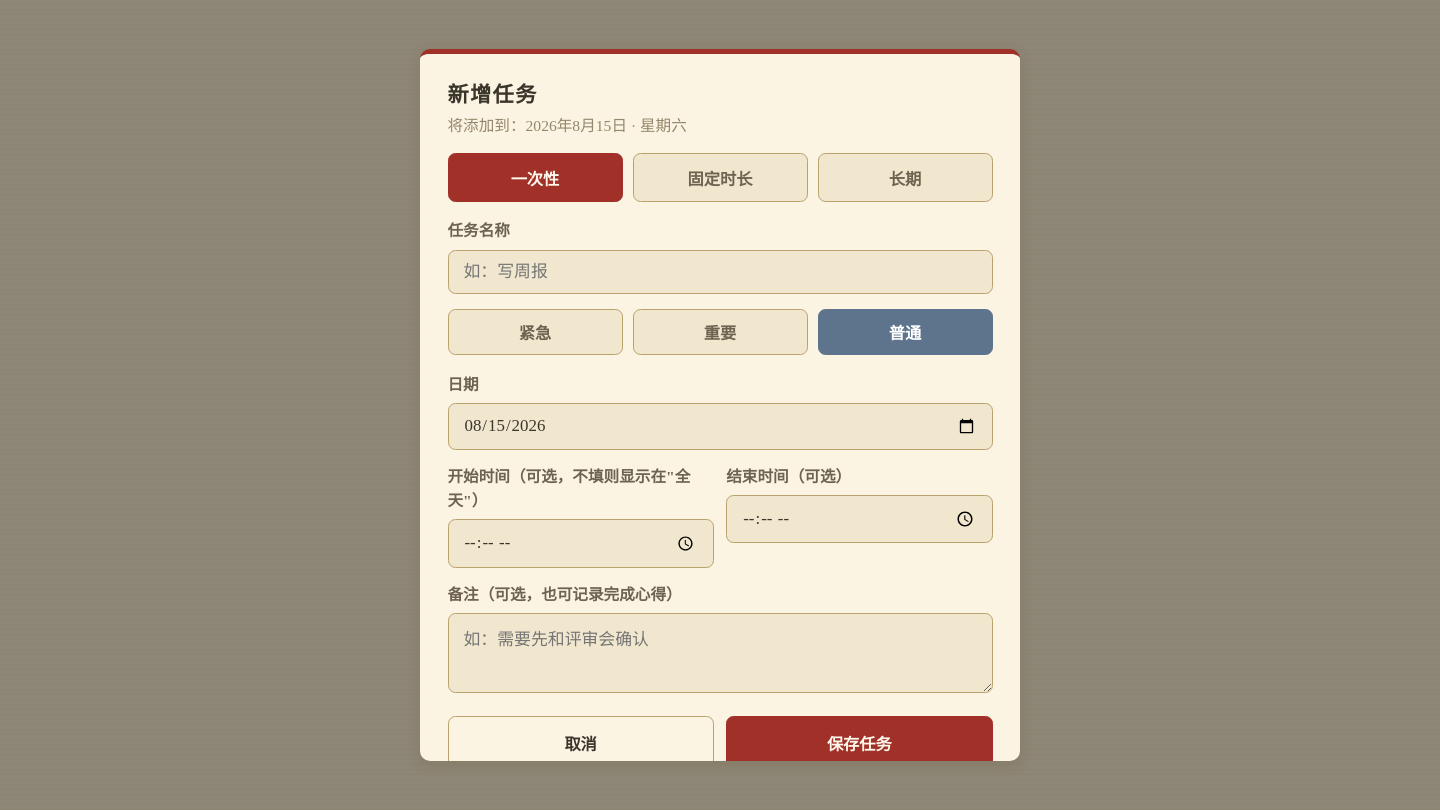
Test: TaskFormModal 新增/编辑/校验 › 标题为空时校验报错
Click the button "保存任务" at [859, 743], box [726,716,993,770]
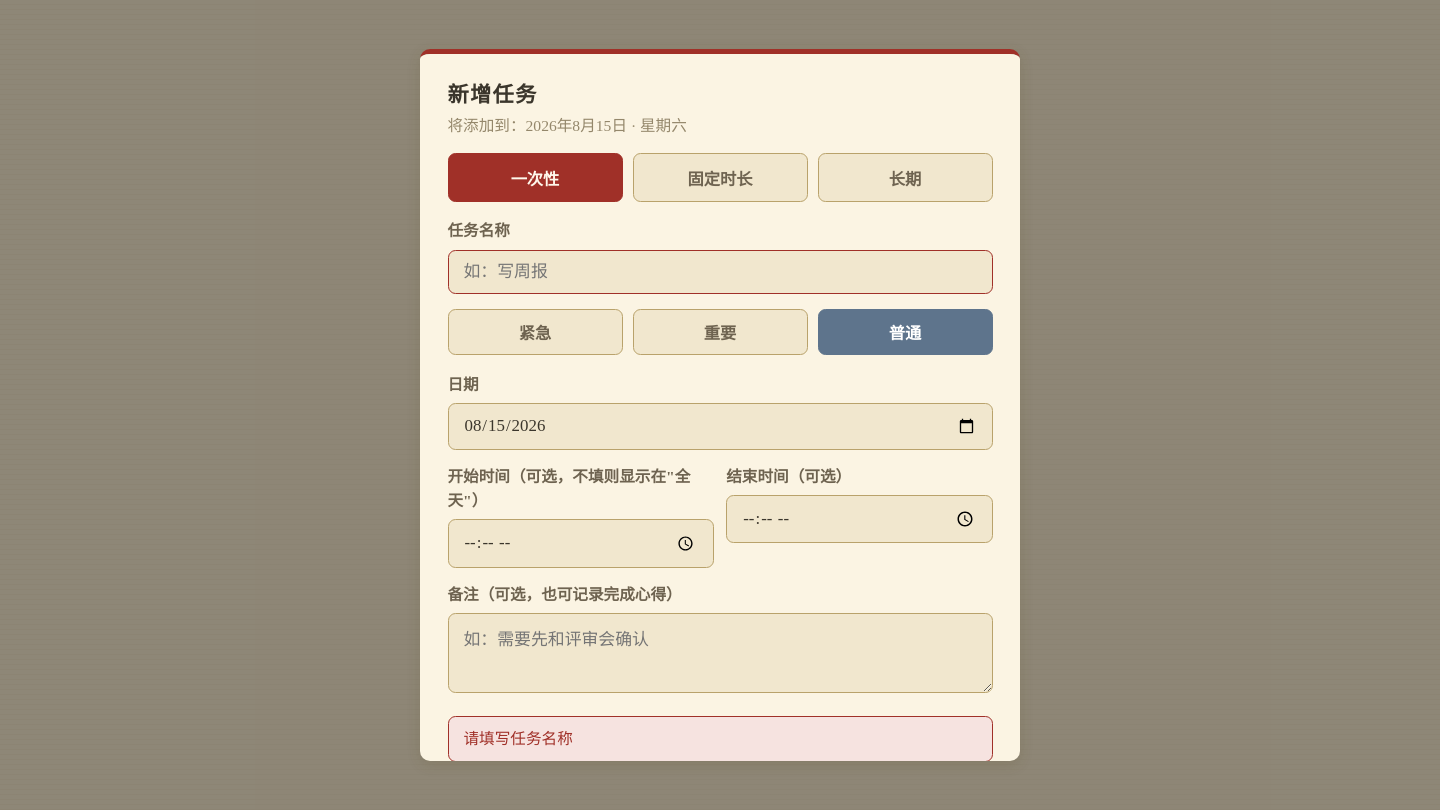
Expected: the message with class "form-error" reads "请填写任务名称", [464,730,573,747]
